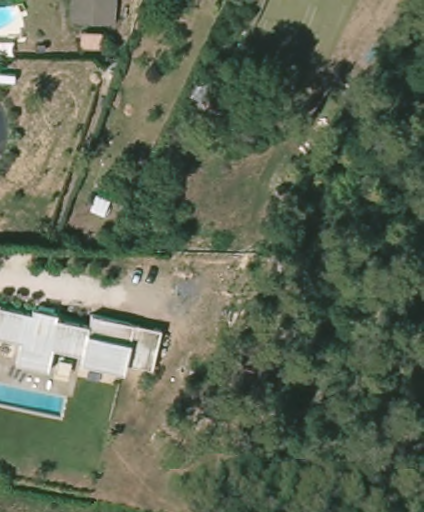pool: (1, 380, 68, 422), (1, 2, 26, 37)
